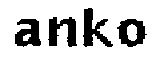a: (13, 17, 40, 50)
k: (83, 5, 114, 50)
n: (44, 15, 79, 54)
o: (116, 16, 149, 51)
